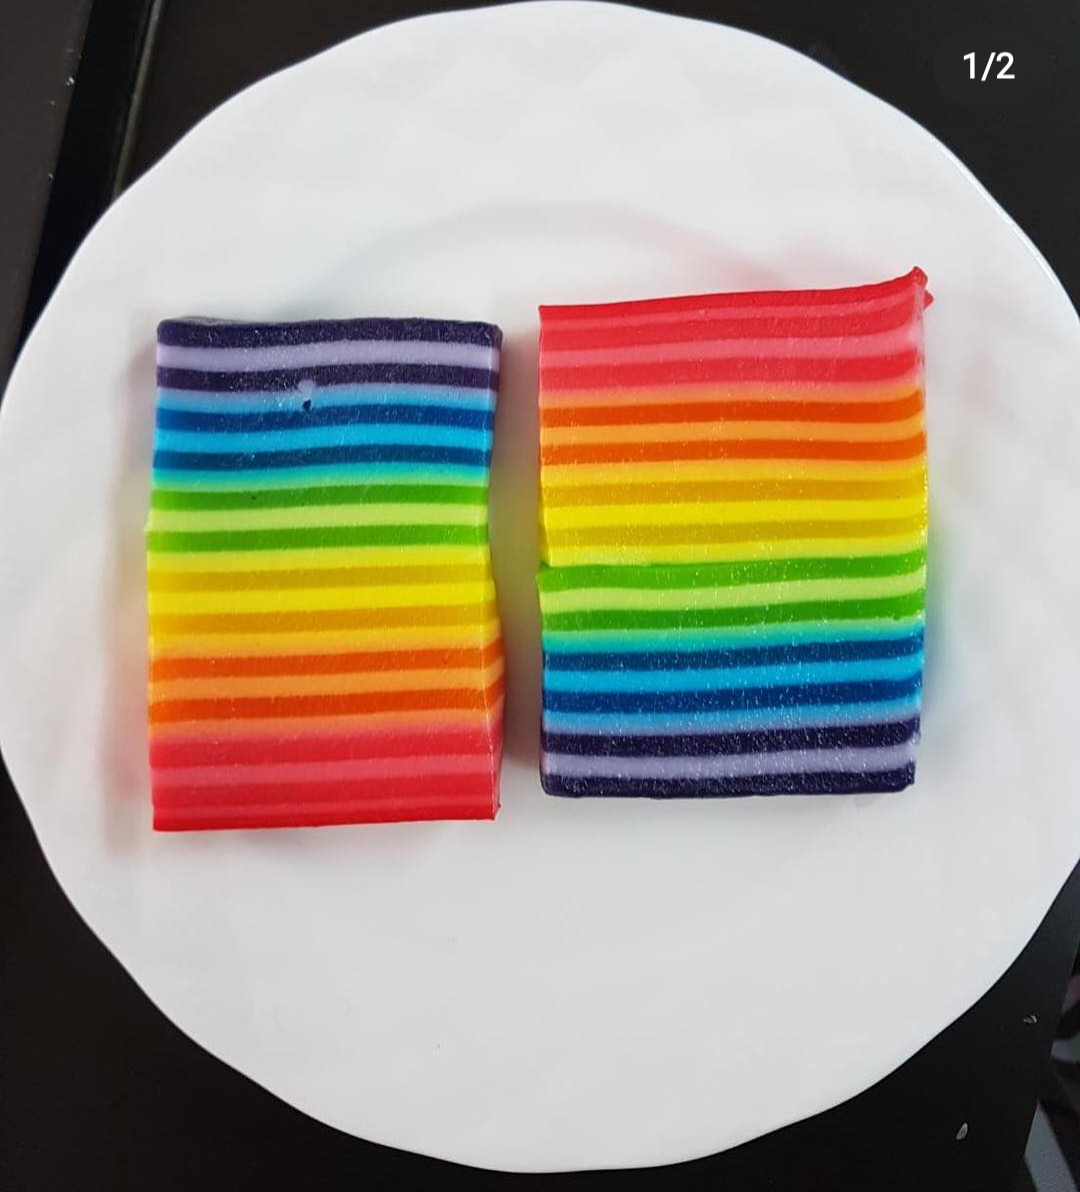kue_lapis_pelangi: (150, 311, 505, 827), (531, 277, 935, 563), (544, 566, 945, 802)
